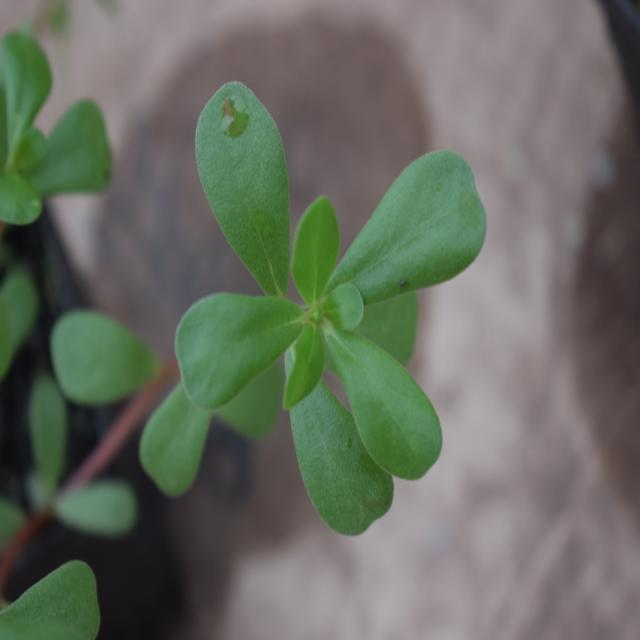purslane: (79, 80, 520, 552)
